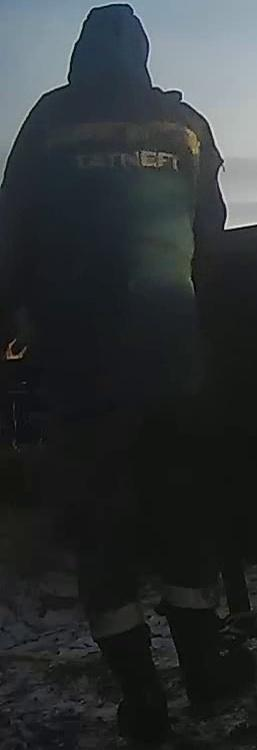vest: (13, 76, 230, 399)
